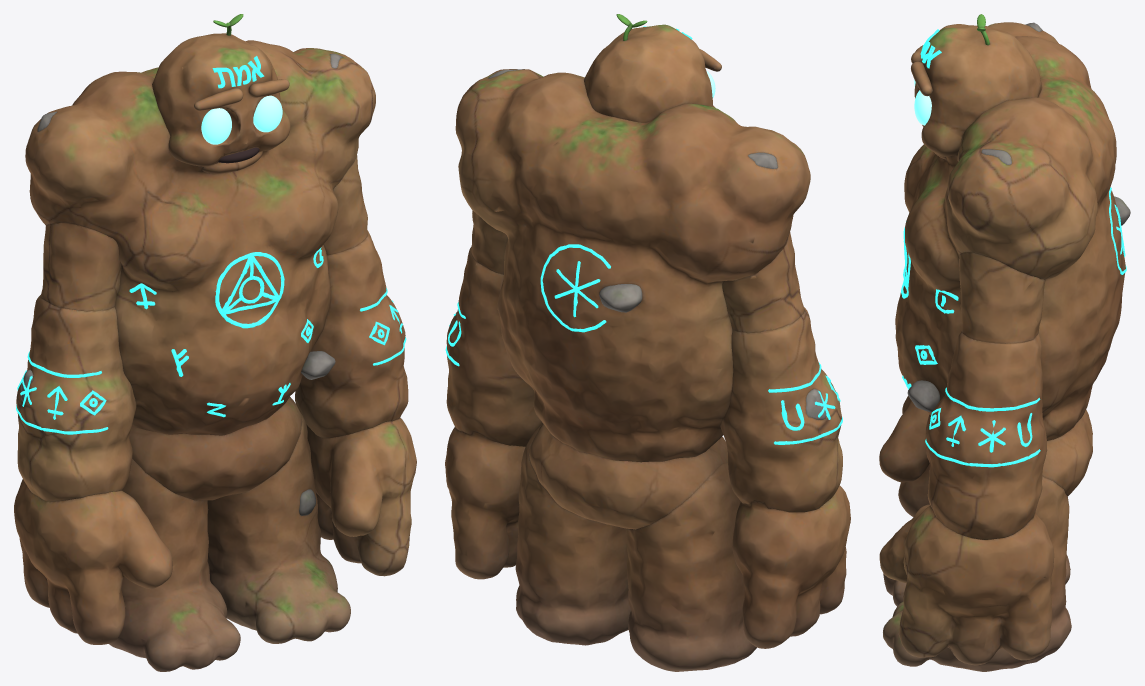
Rendered from golem.glb.
3 renders of one model, left to right at view 1: azimuth 30°, elevation 25°; view 2: azimuth 150°, elevation 25°; view 3: azimuth 270°, elevation 25°, orthographic.
Visible parts, largest first — view 1: Torso, ArmR_Lower, LegL, HandR, ArmL_Lower, LegR, HandL, Head, Hips, ArmR_Upper, ArmL_Upper, Eye_R (+2 smaller); view 2: Torso, LegR, ArmR_Lower, LegL, HandR, ArmL_Lower, Hips, Head, HandL, ArmR_Upper, ArmL_Upper; view 3: Torso, ArmL_Lower, HandL, Head, ArmL_Upper, LegL, HandR, Hips, LegR, Brow_L, Eye_L.
Part boxes in pixels (x1=…): Torso: x1=25, y1=40, x2=375, y2=435; ArmR_Lower: x1=16, y1=295, x2=136, y2=501; LegL: x1=207, y1=411, x2=350, y2=643; HandR: x1=14, y1=479, x2=172, y2=644; ArmL_Lower: x1=295, y1=230, x2=408, y2=438; LegR: x1=109, y1=458, x2=240, y2=671; HandL: x1=306, y1=417, x2=416, y2=576; Head: x1=152, y1=14, x2=290, y2=166; Hips: x1=129, y1=397, x2=302, y2=500; ArmR_Upper: x1=40, y1=222, x2=121, y2=311; ArmL_Upper: x1=323, y1=155, x2=367, y2=255; Eye_R: x1=201, y1=108, x2=231, y2=144; Torso: x1=455, y1=69, x2=810, y2=462; LegR: x1=625, y1=463, x2=756, y2=671; ArmR_Lower: x1=720, y1=307, x2=842, y2=512; LegL: x1=515, y1=423, x2=630, y2=645; HandR: x1=732, y1=485, x2=850, y2=648; ArmL_Lower: x1=445, y1=246, x2=542, y2=446; Hips: x1=529, y1=423, x2=727, y2=529; Head: x1=584, y1=14, x2=715, y2=122; HandL: x1=445, y1=427, x2=525, y2=579; ArmR_Upper: x1=722, y1=232, x2=804, y2=333; ArmL_Upper: x1=471, y1=210, x2=507, y2=274; Torso: x1=895, y1=22, x2=1130, y2=440; ArmL_Lower: x1=925, y1=331, x2=1047, y2=539; HandL: x1=879, y1=504, x2=1054, y2=665; Head: x1=914, y1=14, x2=1041, y2=156; ArmL_Upper: x1=959, y1=252, x2=1045, y2=343; LegL: x1=883, y1=476, x2=1071, y2=671; HandR: x1=879, y1=396, x2=929, y2=516; Hips: x1=925, y1=409, x2=1092, y2=496; LegR: x1=883, y1=535, x2=1070, y2=606; Brow_L: x1=911, y1=61, x2=932, y2=96; Eye_L: x1=914, y1=90, x2=931, y2=125.
Bounding box in the file's own units: 0.8998 × 1.38 × 0.5147.
4 materials, 1 textured.
